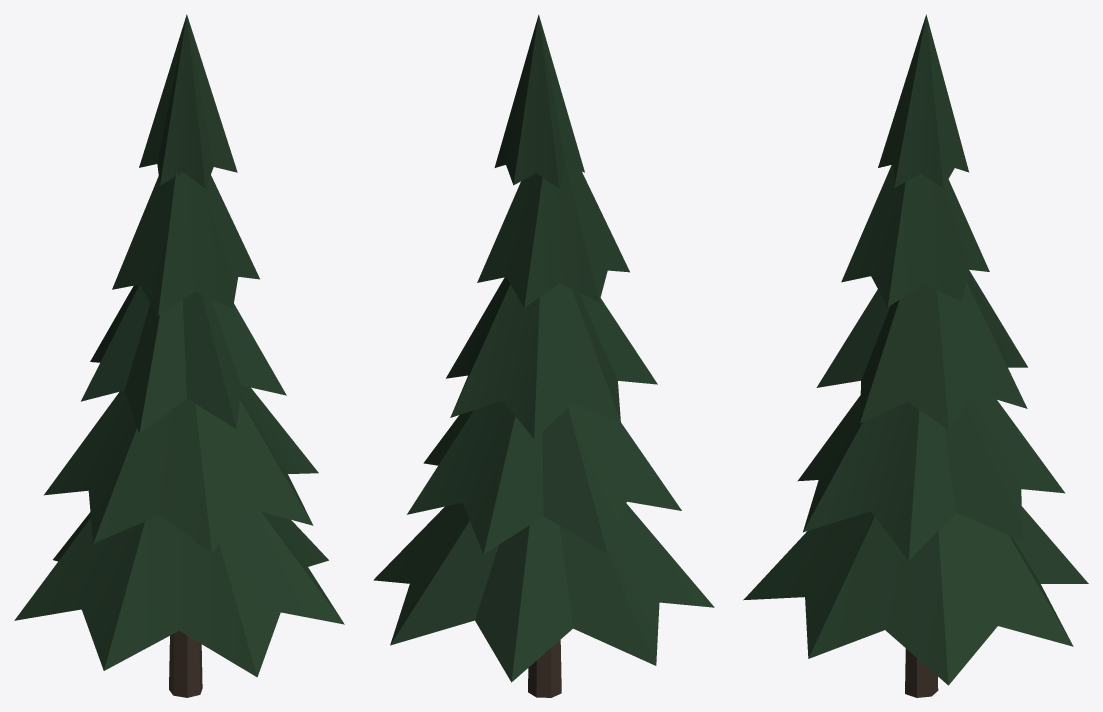
Rendered from pine.glb.
3 views of the same model, side by side, from view 1: azimuth 30°, elevation 25°; view 2: azimuth 150°, elevation 25°; view 3: azimuth 270°, elevation 25° (orthographic).
Parts seen in each view (by area): view 1: Body_LOD0; view 2: Body_LOD0; view 3: Body_LOD0.
Boxes of the visible parts, <box> form: Body_LOD0: <box>14,14,344,697</box>; Body_LOD0: <box>373,14,714,697</box>; Body_LOD0: <box>743,14,1088,697</box>.
Size of the model in its own units: 4.77 by 10.3 by 4.76.
